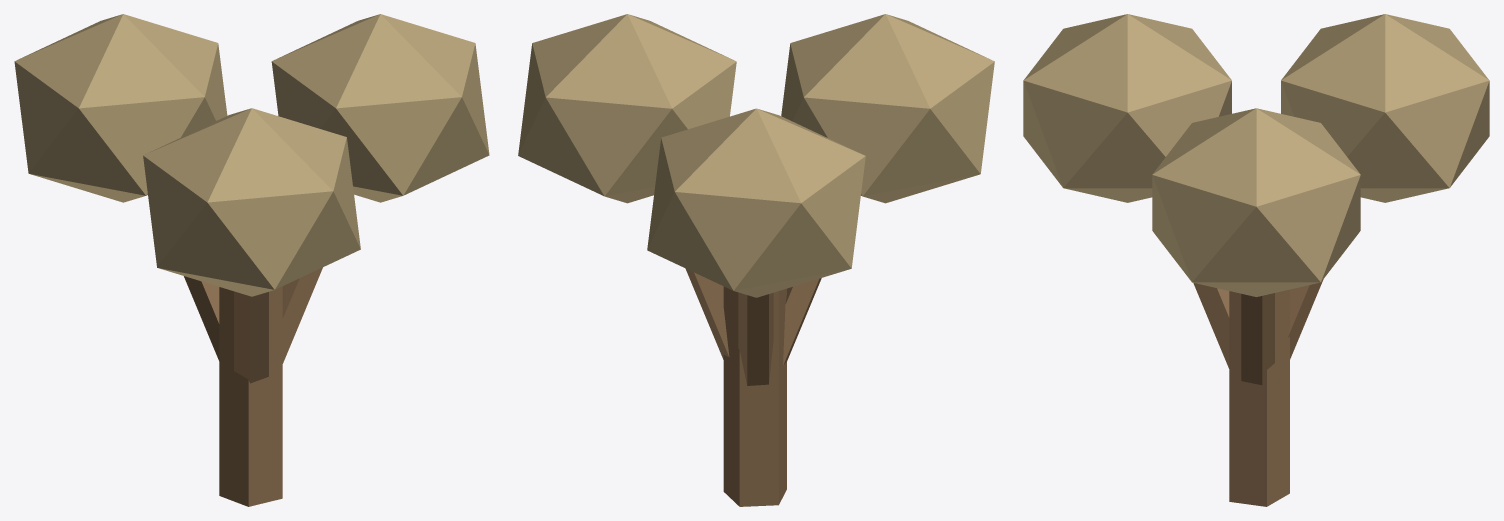
Rendered from plant_berry_bush_spent.glb.
The picture shows the model from 3 angles, left to right: view 1: azimuth 30°, elevation 25°; view 2: azimuth 150°, elevation 25°; view 3: azimuth 270°, elevation 25°; orthographic projection.
Visible parts, largest first — view 1: plant_berry_bush_spent; view 2: plant_berry_bush_spent; view 3: plant_berry_bush_spent.
Part boxes in pixels (bbox=[...]): plant_berry_bush_spent: bbox=[14, 14, 489, 506]; plant_berry_bush_spent: bbox=[518, 14, 994, 506]; plant_berry_bush_spent: bbox=[1023, 14, 1489, 506].
Size of the model in its own units: 0.5952 by 0.6653 by 0.6271.
